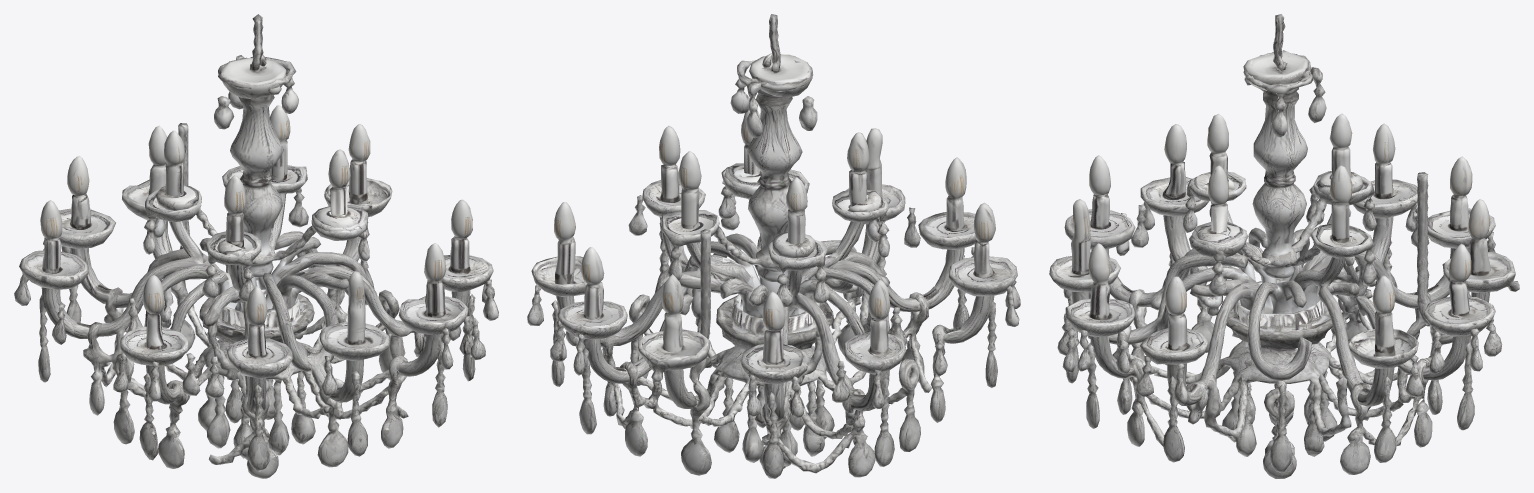
Rendered from Crystal_Cascade_Chand_0405202826_texture.glb.
The picture shows the model from 3 angles, left to right: view 1: azimuth 30°, elevation 25°; view 2: azimuth 150°, elevation 25°; view 3: azimuth 270°, elevation 25°; orthographic projection. The views are drawn at different scales.
Parts seen in each view (by area): view 1: Mesh_0; view 2: Mesh_0; view 3: Mesh_0.
Part boxes in pixels (box(x1,y1,x2,y2)): Mesh_0: box(14, 14, 498, 478); Mesh_0: box(527, 14, 1020, 478); Mesh_0: box(1049, 14, 1519, 478).
Size of the model in its own units: 0.542 by 0.6096 by 0.5733.
1 material, 1 textured.
